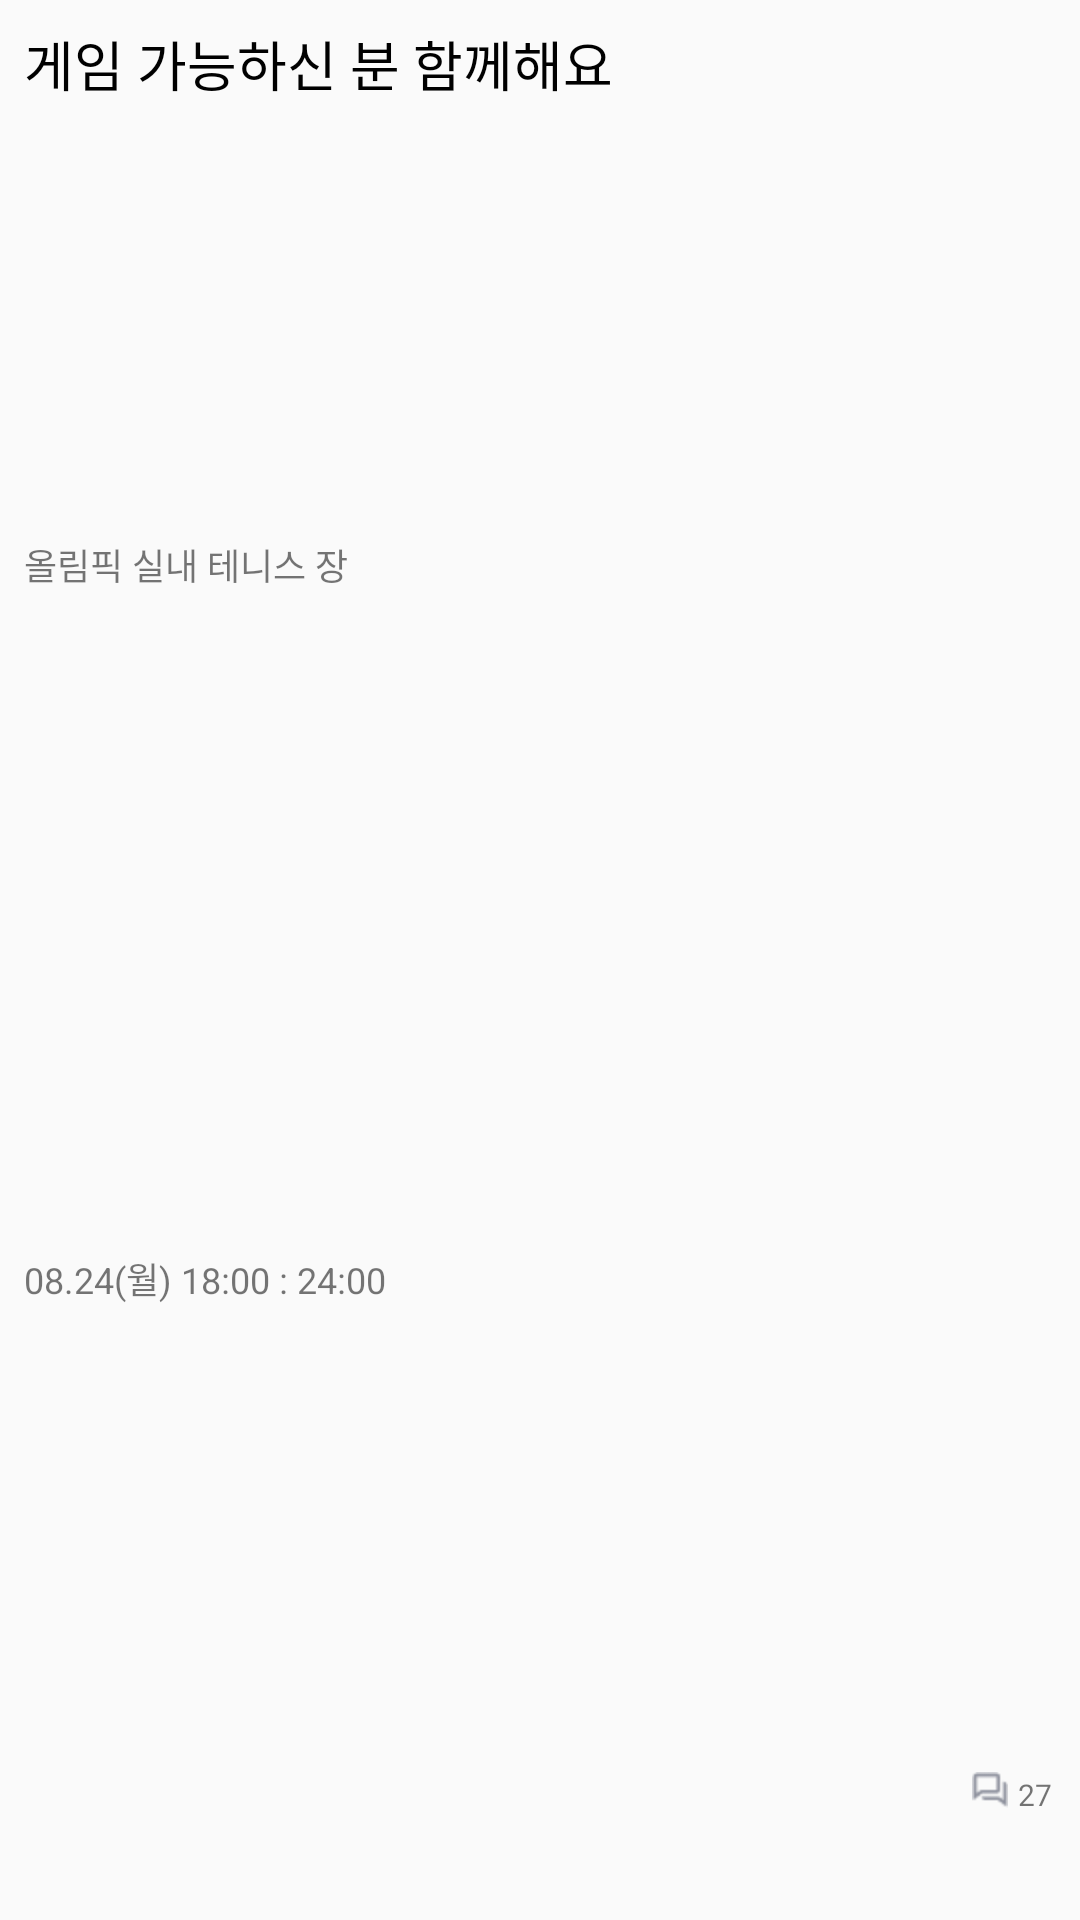

Where icons sit on this 1080px x 1920px app screen, as (x1, y1, x2, y2):
chat: (972, 1772, 1008, 1806)
